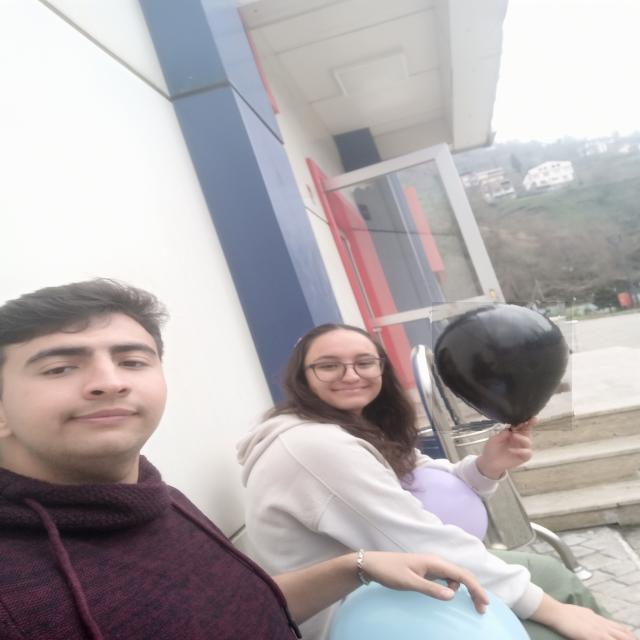balloon: (432, 302, 572, 431)
